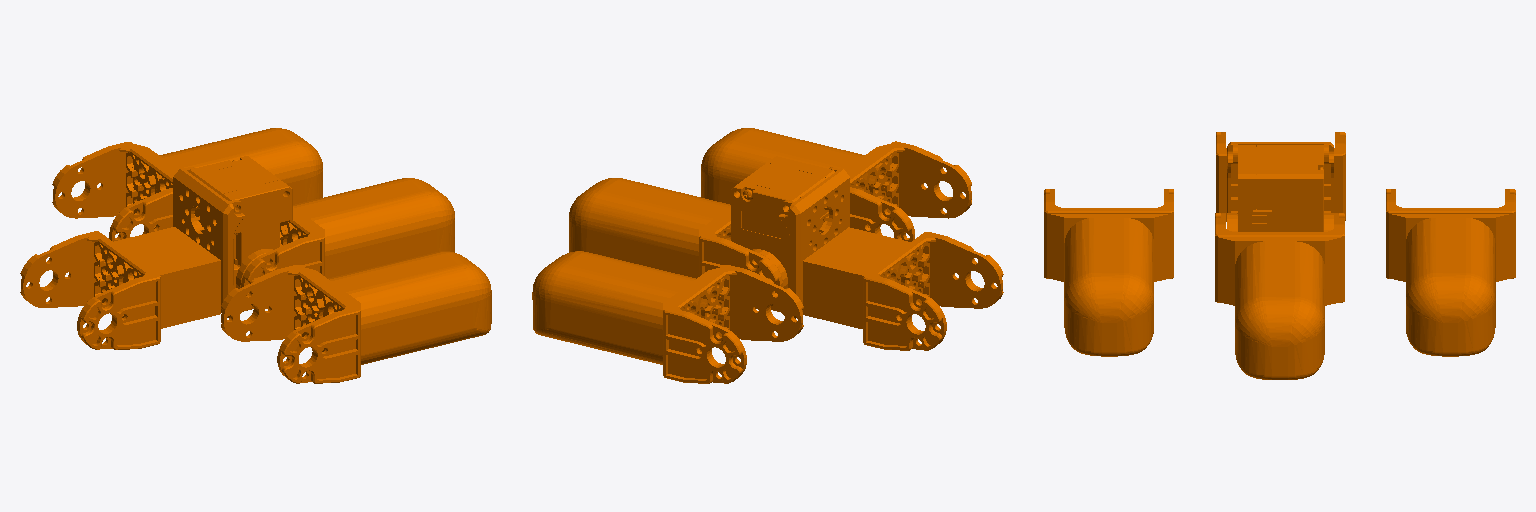
URDF robot description (onshape):
<robot name="onshape">
  <link name="palm_lower">
    <inertial>
      <origin xyz="0.0 0.0 0.0" rpy="0.0 -0.0 0.0"/>
      <mass value="0.237"/>
      <inertia ixx="0.000354094" ixy="-1.193e-06" ixz="-2.445e-06" iyy="0.000260915" iyz="-2.905e-06" izz="0.000529257"/>
    </inertial>
    <visual>
      <geometry>
        <mesh filename="../assets/leap/leap_hand/palm_lower.stl"/>
      </geometry>
      <origin xyz="-0.020095249652862544 0.025757756134899473 -0.034722403578460216" rpy="0.0 -0.0 0.0"/>
      <material name="palm_lower_material">
        <color rgba="0.6039215686274509 0.14901960784313725 0.14901960784313725 1.0"/>
      </material>
    </visual>
    <collision>
      <geometry>
        <mesh filename="../assets/leap/leap_hand/palm_lower.stl"/>
      </geometry>
      <origin xyz="-0.020095249652862544 0.025757756134899473 -0.034722403578460216" rpy="0.0 -0.0 0.0"/>
    </collision>
  </link>
  <link name="mcp_joint">
    <inertial>
      <origin xyz="0.0 0.0 0.0" rpy="0.0 -0.0 0.0"/>
      <mass value="0.044"/>
      <inertia ixx="1.1499e-05" ixy="3.049e-06" ixz="1.21e-07" iyy="7.796e-06" iyz="1.12e-07" izz="1.4759e-05"/>
    </inertial>
    <visual>
      <geometry>
        <mesh filename="../assets/leap/leap_hand/mcp_joint.stl"/>
      </geometry>
      <origin xyz="0.008406902261174496 0.0077662438597169954 0.014657354985032912" rpy="1.6375789613221e-15 -1.021047330249102e-30 1.7177968783327987e-31"/>
      <material name="mcp_joint_material">
        <color rgba="0.8666666666666667 0.8666666666666667 0.050980392156862744 1.0"/>
      </material>
    </visual>
    <collision>
      <geometry>
        <mesh filename="../assets/leap/leap_hand/mcp_joint.stl"/>
      </geometry>
      <origin xyz="0.008406902261174496 0.0077662438597169954 0.014657354985032912" rpy="1.6375789613221e-15 -1.021047330249102e-30 1.7177968783327987e-31"/>
    </collision>
  </link>
  <link name="pip">
    <inertial>
      <origin xyz="0.0 0.0 0.0" rpy="0.0 -0.0 0.0"/>
      <mass value="0.032"/>
      <inertia ixx="4.798e-06" ixy="1.2e-08" ixz="4e-09" iyy="2.862e-06" iyz="1.1e-08" izz="4.234e-06"/>
    </inertial>
    <visual>
      <geometry>
        <mesh filename="../assets/leap/leap_hand/pip.stl"/>
      </geometry>
      <origin xyz="0.009643363092271328 0.0002999999999999895 0.0007840340104173765" rpy="-1.5707963267948966 -1.5707963267948963 0.0"/>
      <material name="pip_material">
        <color rgba="0.7490196078431373 0.7490196078431373 0.7490196078431373 1.0"/>
      </material>
    </visual>
    <collision>
      <geometry>
        <mesh filename="../assets/leap/leap_hand/pip.stl"/>
      </geometry>
      <origin xyz="0.009643363092271328 0.0002999999999999895 0.0007840340104173765" rpy="-1.5707963267948966 -1.5707963267948963 0.0"/>
    </collision>
  </link>
  <link name="dip">
    <inertial>
      <origin xyz="0.0 0.0 0.0" rpy="0.0 -0.0 0.0"/>
      <mass value="0.037"/>
      <inertia ixx="5.542e-06" ixy="-6.07e-07" ixz="-1.7e-08" iyy="5.727e-06" iyz="-2.3e-08" izz="6.682e-06"/>
    </inertial>
    <visual>
      <geometry>
        <mesh filename="../assets/leap/leap_hand/dip.stl"/>
      </geometry>
      <origin xyz="0.021133352895225003 -0.00843211914670488 0.00978508816209524" rpy="-3.141592653589793 4.507511124216441e-32 4.439548105392361e-32"/>
      <material name="dip_material">
        <color rgba="0.8666666666666667 0.8666666666666667 0.050980392156862744 1.0"/>
      </material>
    </visual>
    <collision>
      <geometry>
        <mesh filename="../assets/leap/leap_hand/dip.stl"/>
      </geometry>
      <origin xyz="0.021133352895225003 -0.00843211914670488 0.00978508816209524" rpy="-3.141592653589793 4.507511124216441e-32 4.439548105392361e-32"/>
    </collision>
  </link>
  <link name="fingertip_long">
    <inertial>
      <origin xyz="0.0 0.0 0.0" rpy="0.0 -0.0 0.0"/>
      <mass value="0.016"/>
      <inertia ixx="3.368e-06" ixy="1.15e-07" ixz="0.0" iyy="1.556e-06" iyz="0.0" izz="2.863e-06"/>
    </inertial>
    <visual>
      <geometry>
        <mesh filename="custom_models/fingertip_long.stl"/>
      </geometry>
      <origin xyz="0.013286424108533503 -0.006114238386541987 0.014499999999999498" rpy="3.141592653589793 1.1993117970061735e-33 4.439548105392361e-32"/>
      <material name="fingertip_material">
        <color rgba="0.878 0.467 0.0 1.0"/>
      </material>
    </visual>
    <collision>
      <geometry>
        <mesh filename="custom_models/fingertip_long.stl"/>
      </geometry>
      <origin xyz="0.013286424108533503 -0.006114238386541987 0.014499999999999498" rpy="3.141592653589793 1.1993117970061735e-33 4.439548105392361e-32"/>
    </collision>
  </link>
  <link name="pip_4">
    <inertial>
      <origin xyz="0.0 0.0 0.0" rpy="0.0 -0.0 0.0"/>
      <mass value="0.032"/>
      <inertia ixx="4.798e-06" ixy="1.2e-08" ixz="4e-09" iyy="2.862e-06" iyz="1.1e-08" izz="4.234e-06"/>
    </inertial>
    <visual>
      <geometry>
        <mesh filename="../assets/leap/leap_hand/pip.stl"/>
      </geometry>
      <origin xyz="-0.005356636907728671 0.0002999999999999999 0.0007840340104173782" rpy="-1.5707963267948966 -1.5707963267948963 0.0"/>
      <material name="pip_material">
        <color rgba="0.7490196078431373 0.7490196078431373 0.7490196078431373 1.0"/>
      </material>
    </visual>
    <collision>
      <geometry>
        <mesh filename="../assets/leap/leap_hand/pip.stl"/>
      </geometry>
      <origin xyz="-0.005356636907728671 0.0002999999999999999 0.0007840340104173782" rpy="-1.5707963267948966 -1.5707963267948963 0.0"/>
    </collision>
  </link>
  <link name="thumb_pip">
    <inertial>
      <origin xyz="0.0 0.0 0.0" rpy="0.0 -0.0 0.0"/>
      <mass value="0.003"/>
      <inertia ixx="5.93e-07" ixy="0.0" ixz="0.0" iyy="5.49e-07" iyz="0.0" izz="2.24e-07"/>
    </inertial>
    <visual>
      <geometry>
        <mesh filename="../assets/leap/leap_hand/thumb_pip.stl"/>
      </geometry>
      <origin xyz="0.011961920770611187 -5.30825383648903e-16 -0.0158526489566642" rpy="1.5707963267948966 1.6050198443300153e-46 -3.9204996250525193e-59"/>
      <material name="thumb_pip_material">
        <color rgba="0.8666666666666667 0.8666666666666667 0.050980392156862744 1.0"/>
      </material>
    </visual>
    <collision>
      <geometry>
        <mesh filename="../assets/leap/leap_hand/thumb_pip.stl"/>
      </geometry>
      <origin xyz="0.011961920770611187 -5.30825383648903e-16 -0.0158526489566642" rpy="1.5707963267948966 1.6050198443300153e-46 -3.9204996250525193e-59"/>
    </collision>
  </link>
  <link name="thumb_dip">
    <inertial>
      <origin xyz="0.0 0.0 0.0" rpy="0.0 -0.0 0.0"/>
      <mass value="0.038"/>
      <inertia ixx="8.474e-06" ixy="2.41e-07" ixz="2.6e-08" iyy="3.841e-06" iyz="2.5e-08" izz="7.679e-06"/>
    </inertial>
    <visual>
      <geometry>
        <mesh filename="../assets/leap/leap_hand/thumb_dip.stl"/>
      </geometry>
      <origin xyz="0.043968715707239175 0.0579529529737092 -0.008628676449369476" rpy="1.94289029309401e-16 3.27515792264422e-15 1.112375852965736e-46"/>
      <material name="thumb_dip_material">
        <color rgba="0.8666666666666667 0.8666666666666667 0.050980392156862744 1.0"/>
      </material>
    </visual>
    <collision>
      <geometry>
        <mesh filename="../assets/leap/leap_hand/thumb_dip.stl"/>
      </geometry>
      <origin xyz="0.043968715707239175 0.0579529529737092 -0.008628676449369476" rpy="1.94289029309401e-16 3.27515792264422e-15 1.112375852965736e-46"/>
    </collision>
  </link>
  <link name="thumb_fingertip">
    <inertial>
      <origin xyz="0.0 0.0 0.0" rpy="0.0 -0.0 0.0"/>
      <mass value="0.049"/>
      <inertia ixx="2.0372e-05" ixy="-4.89e-07" ixz="-3e-08" iyy="4.336e-06" iyz="-9.7e-08" izz="1.9845e-05"/>
    </inertial>
    <visual>
      <geometry>
        <mesh filename="../assets/leap/leap_hand/thumb_fingertip.stl"/>
      </geometry>
      <origin xyz="0.06255953846266739 0.07845968291139699 0.048992911807332215" rpy="4.379057701015637e-47 -3.33066907387547e-16 1.2042408677791935e-46"/>
      <material name="thumb_fingertip_material">
        <color rgba="0.6039215686274509 0.14901960784313725 0.14901960784313725 1.0"/>
      </material>
    </visual>
    <collision>
      <geometry>
        <mesh filename="../assets/leap/leap_hand/thumb_fingertip.stl"/>
      </geometry>
      <origin xyz="0.06255953846266739 0.07845968291139699 0.048992911807332215" rpy="4.379057701015637e-47 -3.33066907387547e-16 1.2042408677791935e-46"/>
    </collision>
  </link>
  <link name="mcp_joint_2">
    <inertial>
      <origin xyz="0.0 0.0 0.0" rpy="0.0 -0.0 0.0"/>
      <mass value="0.044"/>
      <inertia ixx="1.1499e-05" ixy="3.049e-06" ixz="1.21e-07" iyy="7.796e-06" iyz="1.12e-07" izz="1.4759e-05"/>
    </inertial>
    <visual>
      <geometry>
        <mesh filename="../assets/leap/leap_hand/mcp_joint.stl"/>
      </geometry>
      <origin xyz="0.008406902261174496 0.0077662438597169954 0.014657354985032914" rpy="1.6375789613221e-15 -1.0076465469034e-30 2.1209300131419907e-61"/>
      <material name="mcp_joint_material">
        <color rgba="0.8666666666666667 0.8666666666666667 0.050980392156862744 1.0"/>
      </material>
    </visual>
    <collision>
      <geometry>
        <mesh filename="../assets/leap/leap_hand/mcp_joint.stl"/>
      </geometry>
      <origin xyz="0.008406902261174496 0.0077662438597169954 0.014657354985032914" rpy="1.6375789613221e-15 -1.0076465469034e-30 2.1209300131419907e-61"/>
    </collision>
  </link>
  <link name="pip_2">
    <inertial>
      <origin xyz="0.0 0.0 0.0" rpy="0.0 -0.0 0.0"/>
      <mass value="0.032"/>
      <inertia ixx="4.798e-06" ixy="1.2e-08" ixz="4e-09" iyy="2.862e-06" iyz="1.1e-08" izz="4.234e-06"/>
    </inertial>
    <visual>
      <geometry>
        <mesh filename="../assets/leap/leap_hand/pip.stl"/>
      </geometry>
      <origin xyz="0.009643363092271328 0.0002999999999999947 0.0007840340104173765" rpy="-1.5707963267948966 -1.5707963267948963 0.0"/>
      <material name="pip_material">
        <color rgba="0.7490196078431373 0.7490196078431373 0.7490196078431373 1.0"/>
      </material>
    </visual>
    <collision>
      <geometry>
        <mesh filename="../assets/leap/leap_hand/pip.stl"/>
      </geometry>
      <origin xyz="0.009643363092271328 0.0002999999999999947 0.0007840340104173765" rpy="-1.5707963267948966 -1.5707963267948963 0.0"/>
    </collision>
  </link>
  <link name="dip_2_long">
    <inertial>
      <origin xyz="0.0 0.0 0.0" rpy="0.0 -0.0 0.0"/>
      <mass value="0.037"/>
      <inertia ixx="5.542e-06" ixy="-6.07e-07" ixz="-1.7e-08" iyy="5.727e-06" iyz="-2.3e-08" izz="6.682e-06"/>
    </inertial>
    <visual>
      <geometry>
        <mesh filename="custom_models/dip_long.stl"/>
      </geometry>
      <origin xyz="0.021133352895225003 -0.008432119146704865 0.009785088162095237" rpy="-3.141592653589793 2.1146933785271956e-32 1.4408183216511869e-31"/>
      <material name="dip_material">
        <color rgba="0.878 0.467 0.0 1.0"/>
      </material>
    </visual>
    <collision>
      <geometry>
        <mesh filename="custom_models/dip_long.stl"/>
      </geometry>
      <origin xyz="0.021133352895225003 -0.008432119146704865 0.009785088162095237" rpy="-3.141592653589793 2.1146933785271956e-32 1.4408183216511869e-31"/>
    </collision>
  </link>
  <link name="fingertip_2_long">
    <inertial>
      <origin xyz="0.0 0.0 0.0" rpy="0.0 -0.0 0.0"/>
      <mass value="0.016"/>
      <inertia ixx="3.368e-06" ixy="1.15e-07" ixz="0.0" iyy="1.556e-06" iyz="0.0" izz="2.863e-06"/>
    </inertial>
    <visual>
      <geometry>
        <mesh filename="custom_models/fingertip_long.stl"/>
      </geometry>
      <origin xyz="0.013286424108533496 -0.006114238386542001 0.014499999999999496" rpy="3.141592653589793 -4.317959788283594e-33 1.4408183216511869e-31"/>
      <material name="fingertip_material">
        <color rgba="0.878 0.467 0.0 1.0"/>
      </material>
    </visual>
    <collision>
      <geometry>
        <mesh filename="custom_models/fingertip_long.stl"/>
      </geometry>
      <origin xyz="0.013286424108533496 -0.006114238386542001 0.014499999999999496" rpy="3.141592653589793 -4.317959788283594e-33 1.4408183216511869e-31"/>
    </collision>
  </link>
  <link name="mcp_joint_3">
    <inertial>
      <origin xyz="0.0 0.0 0.0" rpy="0.0 -0.0 0.0"/>
      <mass value="0.044"/>
      <inertia ixx="1.1499e-05" ixy="3.049e-06" ixz="1.21e-07" iyy="7.796e-06" iyz="1.12e-07" izz="1.4759e-05"/>
    </inertial>
    <visual>
      <geometry>
        <mesh filename="../assets/leap/leap_hand/mcp_joint.stl"/>
      </geometry>
      <origin xyz="0.0084069022611745 0.007766243859716996 0.014657354985032914" rpy="1.6375789613221e-15 -1.0059504988632627e-30 5.729641584552035e-32"/>
      <material name="mcp_joint_material">
        <color rgba="0.8666666666666667 0.8666666666666667 0.050980392156862744 1.0"/>
      </material>
    </visual>
    <collision>
      <geometry>
        <mesh filename="../assets/leap/leap_hand/mcp_joint.stl"/>
      </geometry>
      <origin xyz="0.0084069022611745 0.007766243859716996 0.014657354985032914" rpy="1.6375789613221e-15 -1.0059504988632627e-30 5.729641584552035e-32"/>
    </collision>
  </link>
  <link name="pip_3">
    <inertial>
      <origin xyz="0.0 0.0 0.0" rpy="0.0 -0.0 0.0"/>
      <mass value="0.032"/>
      <inertia ixx="4.798e-06" ixy="1.2e-08" ixz="4e-09" iyy="2.862e-06" iyz="1.1e-08" izz="4.234e-06"/>
    </inertial>
    <visual>
      <geometry>
        <mesh filename="../assets/leap/leap_hand/pip.stl"/>
      </geometry>
      <origin xyz="0.009643363092271331 0.00029999999999998084 0.0007840340104173765" rpy="-1.5707963267948966 -1.5707963267948963 0.0"/>
      <material name="pip_material">
        <color rgba="0.7490196078431373 0.7490196078431373 0.7490196078431373 1.0"/>
      </material>
    </visual>
    <collision>
      <geometry>
        <mesh filename="../assets/leap/leap_hand/pip.stl"/>
      </geometry>
      <origin xyz="0.009643363092271331 0.00029999999999998084 0.0007840340104173765" rpy="-1.5707963267948966 -1.5707963267948963 0.0"/>
    </collision>
  </link>
  <link name="dip_3">
    <inertial>
      <origin xyz="0.0 0.0 0.0" rpy="0.0 -0.0 0.0"/>
      <mass value="0.037"/>
      <inertia ixx="5.542e-06" ixy="-6.07e-07" ixz="-1.7e-08" iyy="5.727e-06" iyz="-2.3e-08" izz="6.682e-06"/>
    </inertial>
    <visual>
      <geometry>
        <mesh filename="../assets/leap/leap_hand/dip.stl"/>
      </geometry>
      <origin xyz="0.021133352895225006 -0.008432119146704865 0.009785088162095237" rpy="-3.141592653589793 -1.4095651113919093e-33 1.5565411607615035e-32"/>
      <material name="dip_material">
        <color rgba="0.8666666666666667 0.8666666666666667 0.050980392156862744 1.0"/>
      </material>
    </visual>
    <collision>
      <geometry>
        <mesh filename="../assets/leap/leap_hand/dip.stl"/>
      </geometry>
      <origin xyz="0.021133352895225006 -0.008432119146704865 0.009785088162095237" rpy="-3.141592653589793 -1.4095651113919093e-33 1.5565411607615035e-32"/>
    </collision>
  </link>
  <link name="fingertip_3_long">
    <inertial>
      <origin xyz="0.0 0.0 0.0" rpy="0.0 -0.0 0.0"/>
      <mass value="0.016"/>
      <inertia ixx="3.368e-06" ixy="1.15e-07" ixz="0.0" iyy="1.556e-06" iyz="0.0" izz="2.863e-06"/>
    </inertial>
    <visual>
      <geometry>
        <mesh filename="custom_models/fingertip_long.stl"/>
      </geometry>
      <origin xyz="0.013286424108533501 -0.006114238386541987 0.0144999999999995" rpy="3.141592653589793 8.61707169505754e-33 1.5565411607615035e-32"/>
      <material name="fingertip_material">
        <color rgba="0.878 0.467 0.0 1.0"/>
      </material>
    </visual>
    <collision>
      <geometry>
        <mesh filename="custom_models/fingertip_long.stl"/>
      </geometry>
      <origin xyz="0.013286424108533501 -0.006114238386541987 0.0144999999999995" rpy="3.141592653589793 8.61707169505754e-33 1.5565411607615035e-32"/>
    </collision>
  </link>
  <joint name="1" type="revolute">
    <parent link="palm_lower"/>
    <child link="mcp_joint"/>
    <origin xyz="-0.007095249652862546 0.023057756134899472 -0.01872240357846022" rpy="1.570796326794895 1.5707963267948946 0.0"/>
    <axis xyz="0.0 0.0 -1.0"/>
    <limit effort="0.95" velocity="8.48" lower="-0.314" upper="2.23"/>
  </joint>
  <joint name="0" type="revolute">
    <parent link="mcp_joint"/>
    <child link="pip"/>
    <origin xyz="-0.012200000000000008 0.038099999999999995 0.0145" rpy="-1.5707963267948966 -1.0065212660796337e-15 1.5707963267948943"/>
    <axis xyz="0.0 0.0 -1.0"/>
    <limit effort="0.95" velocity="8.48" lower="-1.047" upper="1.047"/>
  </joint>
  <joint name="2" type="revolute">
    <parent link="pip"/>
    <child link="dip"/>
    <origin xyz="0.014999999999999968 0.014299999999999905 -0.012999999999999824" rpy="1.570796326794896 -1.5707963267948963 0.0"/>
    <axis xyz="0.0 0.0 -1.0"/>
    <limit effort="0.95" velocity="8.48" lower="-0.506" upper="1.885"/>
  </joint>
  <joint name="3" type="revolute">
    <parent link="dip"/>
    <child link="fingertip_long"/>
    <origin xyz="-4.088058249557269e-09 -0.03610000421036737 0.0002000000000000786" rpy="4.5935029425113685e-17 -2.8730071914463795e-16 4.439548105392361e-32"/>
    <axis xyz="0.0 0.0 -1.0"/>
    <limit effort="0.95" velocity="8.48" lower="-0.366" upper="2.042"/>
  </joint>
  <joint name="12" type="revolute">
    <parent link="palm_lower"/>
    <child link="pip_4"/>
    <origin xyz="-0.06939524965286253 -0.0012422438651005258 -0.021622403578460216" rpy="-8.238176646493942e-17 1.5707963267948957 0.0"/>
    <axis xyz="0.0 0.0 -1.0"/>
    <limit effort="0.95" velocity="8.48" lower="-0.349" upper="2.094"/>
  </joint>
  <joint name="13" type="revolute">
    <parent link="pip_4"/>
    <child link="thumb_pip"/>
    <origin xyz="-2.7755575615628914e-17 0.014300000000000005 -0.013000000000000012" rpy="1.570796326794896 -1.5707963267948963 0.0"/>
    <axis xyz="0.0 0.0 -1.0"/>
    <limit effort="0.95" velocity="8.48" lower="-0.47" upper="2.443"/>
  </joint>
  <joint name="14" type="revolute">
    <parent link="thumb_pip"/>
    <child link="thumb_dip"/>
    <origin xyz="0.0 0.014499999999999966 -0.017000000000000053" rpy="-1.5707963267948966 1.6050198443300131e-46 -1.9721522630516625e-31"/>
    <axis xyz="0.0 0.0 -1.0"/>
    <limit effort="0.95" velocity="8.48" lower="-1.2" upper="1.9"/>
  </joint>
  <joint name="15" type="revolute">
    <parent link="thumb_dip"/>
    <child link="thumb_fingertip"/>
    <origin xyz="-1.249000902703301e-16 0.046599999999999864 0.0001999999999999771" rpy="1.506395849149178e-44 5.423418723393526e-31 3.141592653589793"/>
    <axis xyz="0.0 0.0 -1.0"/>
    <limit effort="0.95" velocity="8.48" lower="-1.34" upper="1.88"/>
  </joint>
  <joint name="5" type="revolute">
    <parent link="palm_lower"/>
    <child link="mcp_joint_2"/>
    <origin xyz="-0.007095249652862546 -0.022392243865100525 -0.01872240357846022" rpy="1.570796326794895 1.5707963267948946 0.0"/>
    <axis xyz="0.0 0.0 -1.0"/>
    <limit effort="0.95" velocity="8.48" lower="-0.314" upper="2.23"/>
  </joint>
  <joint name="4" type="revolute">
    <parent link="mcp_joint_2"/>
    <child link="pip_2"/>
    <origin xyz="-0.012200000000000008 0.038099999999999995 0.0145" rpy="-1.5707963267948966 -1.0065212660796337e-15 1.5707963267948943"/>
    <axis xyz="0.0 0.0 -1.0"/>
    <limit effort="0.95" velocity="8.48" lower="-1.047" upper="1.047"/>
  </joint>
  <joint name="6" type="revolute">
    <parent link="pip_2"/>
    <child link="dip_2_long"/>
    <origin xyz="0.014999999999999968 0.014299999999999905 -0.012999999999999824" rpy="1.570796326794896 -1.5707963267948963 0.0"/>
    <axis xyz="0.0 0.0 -1.0"/>
    <limit effort="0.95" velocity="8.48" lower="-0.506" upper="1.885"/>
  </joint>
  <joint name="7" type="revolute">
    <parent link="dip_2_long"/>
    <child link="fingertip_2_long"/>
    <origin xyz="-4.0880582495572692636e-09 -0.051100004210367367397 0.00020000000000007858714" rpy="4.5935029425113685e-17 -2.8730071914463795e-16 4.439548105392361e-32"/>
    <axis xyz="0.0 0.0 -1.0"/>
    <limit effort="0.95" velocity="8.48" lower="-0.366" upper="2.042"/>
  </joint>
  <joint name="9" type="revolute">
    <parent link="palm_lower"/>
    <child link="mcp_joint_3"/>
    <origin xyz="-0.007095249652862546 -0.06784224386510052 -0.01872240357846022" rpy="1.570796326794895 1.5707963267948946 0.0"/>
    <axis xyz="0.0 0.0 -1.0"/>
    <limit effort="0.95" velocity="8.48" lower="-0.314" upper="2.23"/>
  </joint>
  <joint name="8" type="revolute">
    <parent link="mcp_joint_3"/>
    <child link="pip_3"/>
    <origin xyz="-0.012200000000000008 0.038099999999999995 0.0145" rpy="-1.5707963267948966 -1.0065212660796337e-15 1.5707963267948943"/>
    <axis xyz="0.0 0.0 -1.0"/>
    <limit effort="0.95" velocity="8.48" lower="-1.047" upper="1.047"/>
  </joint>
  <joint name="10" type="revolute">
    <parent link="pip_3"/>
    <child link="dip_3"/>
    <origin xyz="0.014999999999999968 0.014299999999999905 -0.012999999999999824" rpy="1.570796326794896 -1.5707963267948963 0.0"/>
    <axis xyz="0.0 0.0 -1.0"/>
    <limit effort="0.95" velocity="8.48" lower="-0.506" upper="1.885"/>
  </joint>
  <joint name="11" type="revolute">
    <parent link="dip_3"/>
    <child link="fingertip_3_long"/>
    <origin xyz="-4.088058249557269e-09 -0.03610000421036737 0.0002000000000000786" rpy="4.5935029425113685e-17 -2.8730071914463795e-16 4.439548105392361e-32"/>
    <axis xyz="0.0 0.0 -1.0"/>
    <limit effort="0.95" velocity="8.48" lower="-0.366" upper="2.042"/>
  </joint>
</robot>

--- What the picture shows (computed from the rendered views, not written in the file) ---
The picture shows the robot from 3 angles, left to right: view 1: azimuth 30°, elevation 25°; view 2: azimuth 150°, elevation 25°; view 3: azimuth 270°, elevation 25°; orthographic projection.
Robot: onshape — 17 links, 16 joints (16 revolute); root link palm_lower; default pose: all joints at 0.
Links seen in each view (by area): view 1: dip_2_long, fingertip_3_long, fingertip_long, fingertip_2_long; view 2: dip_2_long, fingertip_long, fingertip_3_long, fingertip_2_long; view 3: fingertip_long, fingertip_3_long, fingertip_2_long, dip_2_long.
Boxes of the visible links, bbox=[...] form: dip_2_long: bbox=[20, 156, 292, 349]; fingertip_3_long: bbox=[221, 251, 491, 383]; fingertip_long: bbox=[52, 128, 322, 241]; fingertip_2_long: bbox=[241, 178, 454, 308]; dip_2_long: bbox=[731, 156, 1003, 350]; fingertip_long: bbox=[532, 251, 803, 383]; fingertip_3_long: bbox=[701, 128, 971, 241]; fingertip_2_long: bbox=[569, 178, 824, 309]; fingertip_long: bbox=[1386, 189, 1515, 356]; fingertip_3_long: bbox=[1044, 189, 1173, 356]; fingertip_2_long: bbox=[1215, 213, 1344, 379]; dip_2_long: bbox=[1216, 132, 1345, 231].
Bounding box of the posed robot: 0.1235 × 0.1255 × 0.0356 m (x, y, z).
Meshes: 9 distinct files referenced, 4 mesh visuals loaded (2 binary STL); not drawn: 13 (reference not matched to a file when rendering).